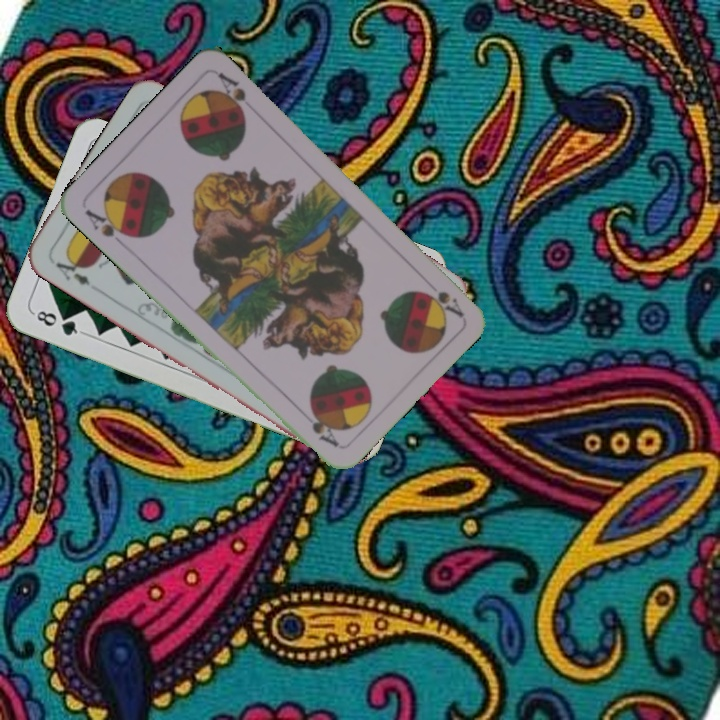EA: (52, 251, 93, 288)
G8: (29, 306, 86, 339)
SA: (80, 204, 135, 250), (425, 287, 466, 320)
